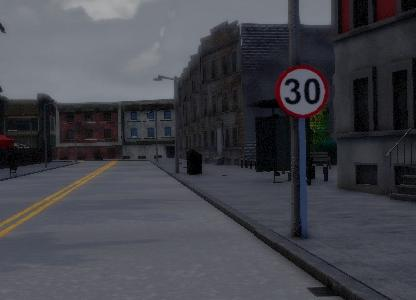Speed_30: (273, 59, 330, 120)
